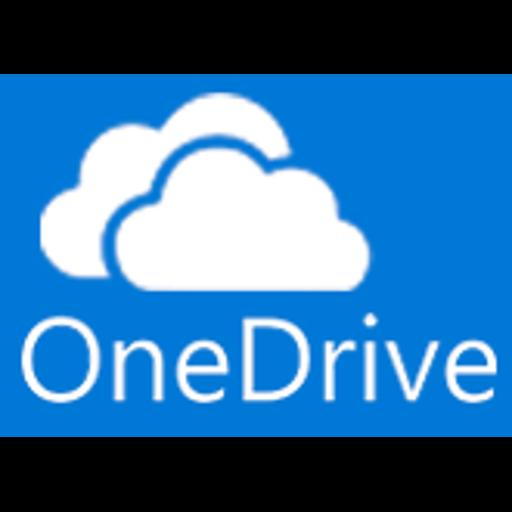Outlook: (0, 74, 512, 437)
